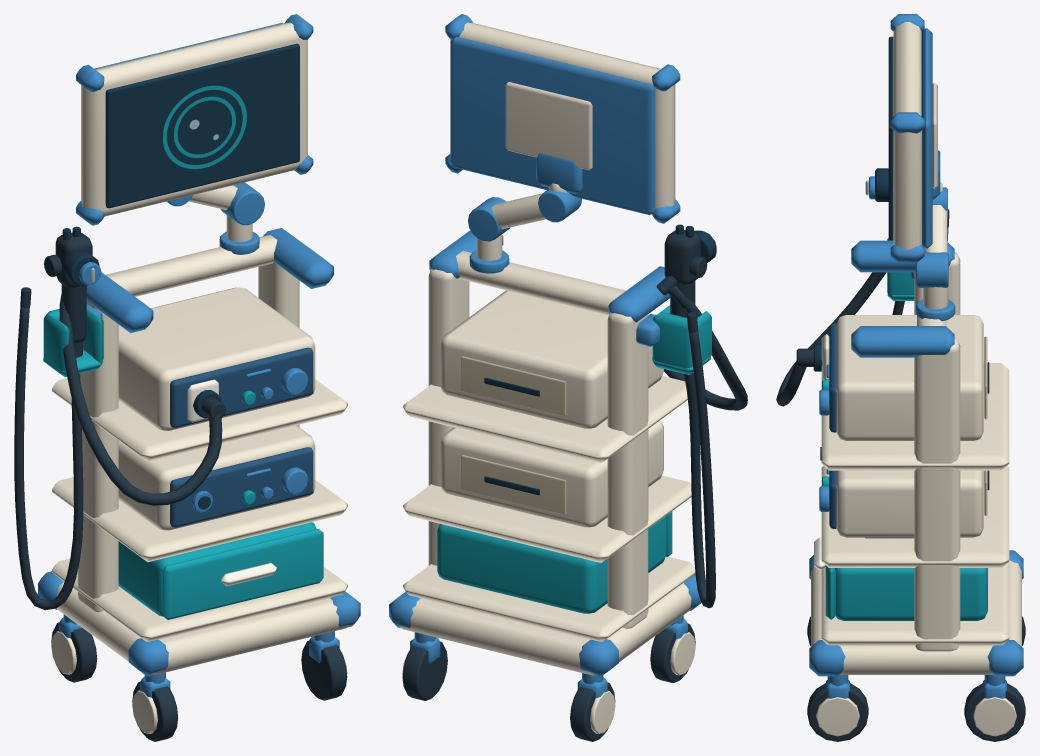
File: endoscopy-tower.glb
3 renders of one model, left to right at view 1: azimuth 30°, elevation 25°; view 2: azimuth 150°, elevation 25°; view 3: azimuth 270°, elevation 25°, orthographic. The views are drawn at different scales.
Parts seen in each view (by area): view 1: Fixed_Trolley_And_Electronics, Abstract_Display_Mesh, Lower_Teal_Drawer_Mesh, Scope_Insertion_Tube_Mesh, Scope_Connector_Lead_Mesh, Endoscope_Control_Body_Mesh; view 2: Fixed_Trolley_And_Electronics, Lower_Teal_Drawer_Mesh, Scope_Insertion_Tube_Mesh, Endoscope_Control_Body_Mesh, Scope_Connector_Lead_Mesh; view 3: Fixed_Trolley_And_Electronics, Lower_Teal_Drawer_Mesh, Scope_Connector_Lead_Mesh, Endoscope_Control_Body_Mesh.
Part boxes in pixels (bbox=[...]): Fixed_Trolley_And_Electronics: bbox=[38, 14, 360, 741]; Abstract_Display_Mesh: bbox=[110, 49, 298, 205]; Lower_Teal_Drawer_Mesh: bbox=[118, 522, 323, 619]; Scope_Insertion_Tube_Mesh: bbox=[14, 287, 83, 610]; Scope_Connector_Lead_Mesh: bbox=[59, 293, 225, 505]; Endoscope_Control_Body_Mesh: bbox=[44, 226, 101, 357]; Fixed_Trolley_And_Electronics: bbox=[389, 14, 711, 741]; Lower_Teal_Drawer_Mesh: bbox=[437, 511, 672, 613]; Scope_Insertion_Tube_Mesh: bbox=[684, 312, 715, 608]; Endoscope_Control_Body_Mesh: bbox=[664, 224, 716, 317]; Scope_Connector_Lead_Mesh: bbox=[656, 276, 747, 410]; Fixed_Trolley_And_Electronics: bbox=[807, 14, 1025, 741]; Lower_Teal_Drawer_Mesh: bbox=[814, 537, 987, 620]; Scope_Connector_Lead_Mesh: bbox=[776, 272, 886, 406]; Endoscope_Control_Body_Mesh: bbox=[865, 168, 888, 201].
Bounding box in the file's own units: 0.8345 × 1.81 × 0.651.
Materials: 3 (3 with a texture image).
